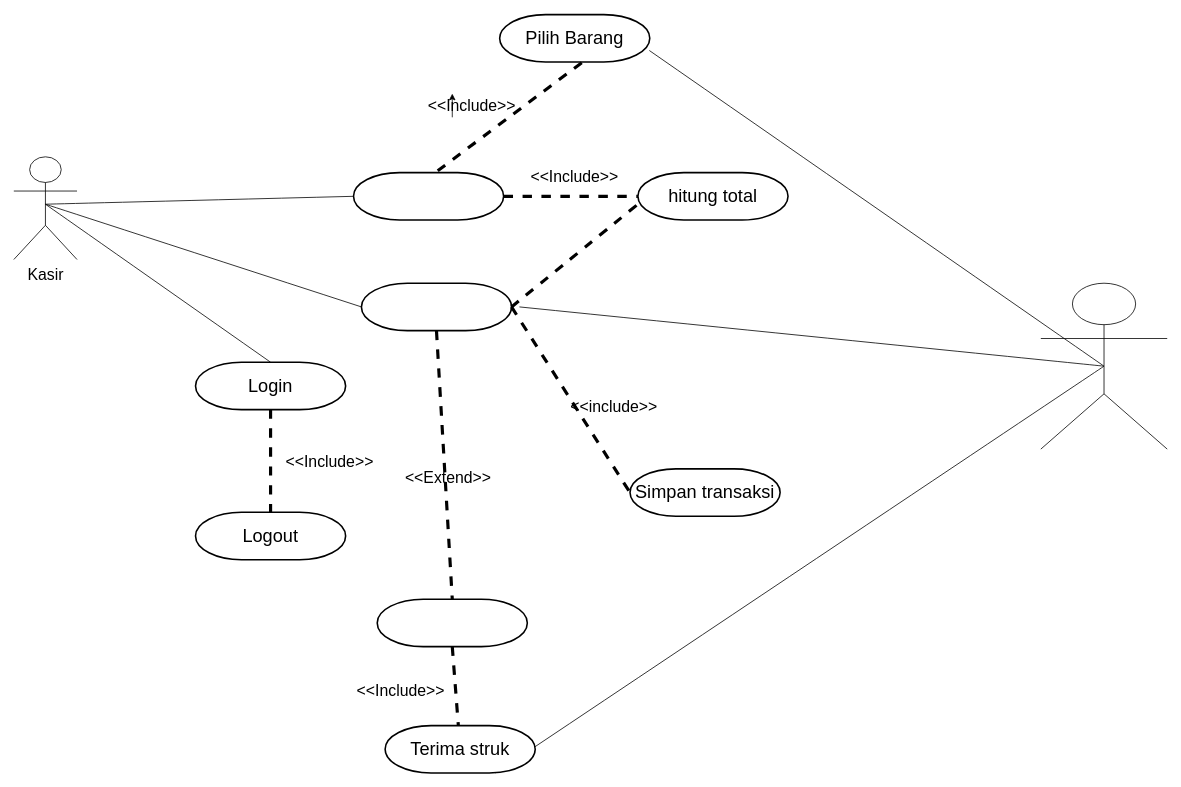
The diagram is 1181 pixels wide and 787 high, and some of its shapes have lost their labels. Here are the shapes that lost their labels. From the top down, the centre of each, then its label:
At point 428,195: "Input barang".
At point 436,306: "Pembayaran".
At point 1103,365: "pembeli".
At point 452,622: "Cetak struk".
